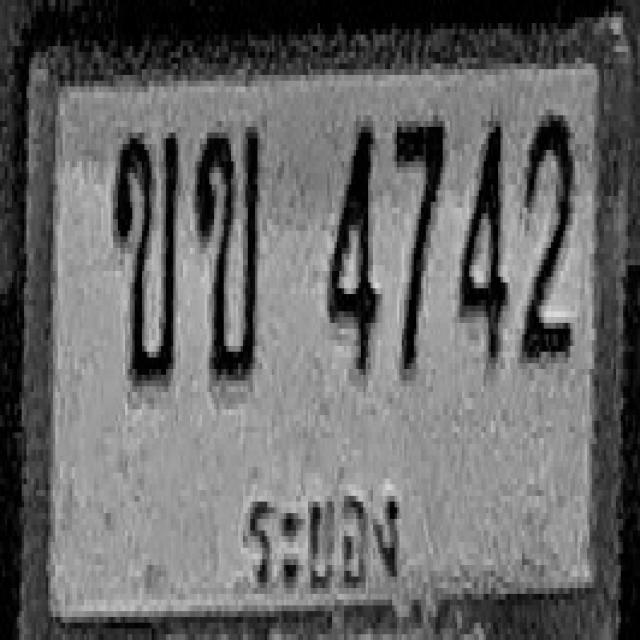11KhorKhai: (113, 127, 178, 386), (195, 124, 260, 383)
2: (520, 112, 572, 360)
4: (327, 121, 378, 375), (458, 118, 506, 366)
7: (394, 118, 446, 372)
Rayong: (236, 471, 425, 622)
